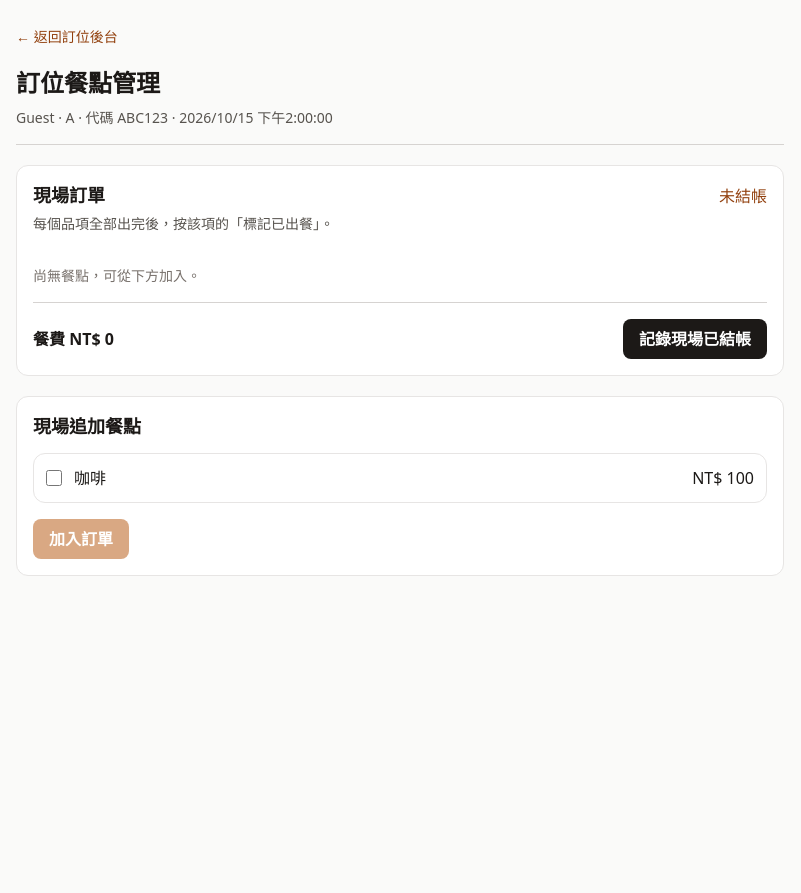
Scenario: standalone reservation orders — acknowledged add versus refresh (#463) › retains selection and reports an actual POST 409 failure without refetching
The image size is (801, 893).
Click the checkbox named "選擇咖啡" at [54, 478], box [46,470,62,486]
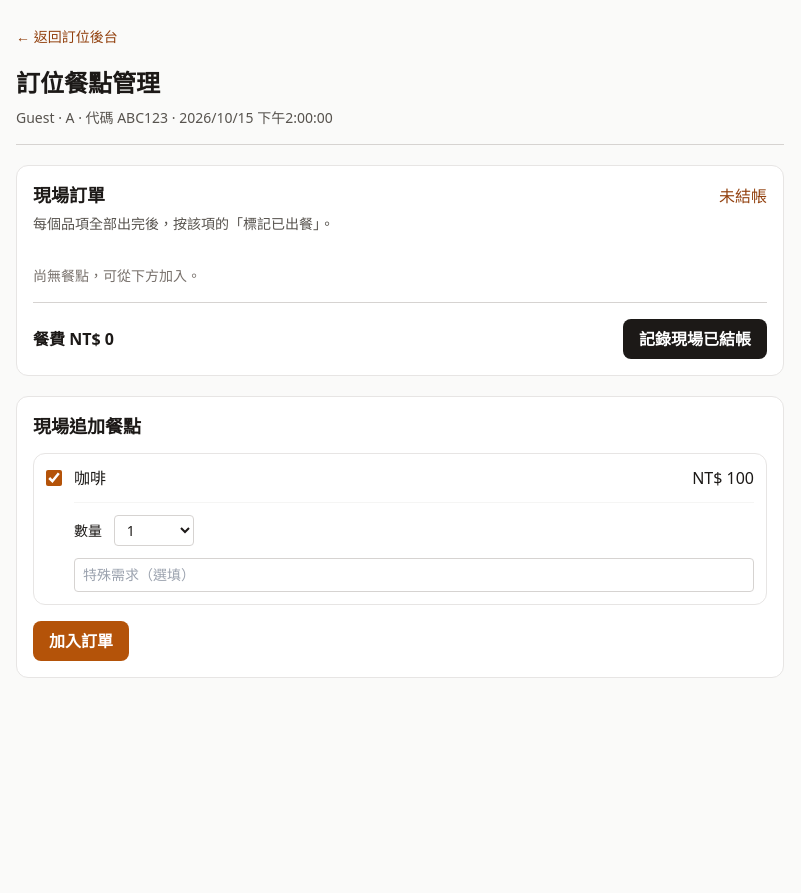
Click the button "加入訂單" at [81, 641], box [33,621,129,661]
(page scrolled)
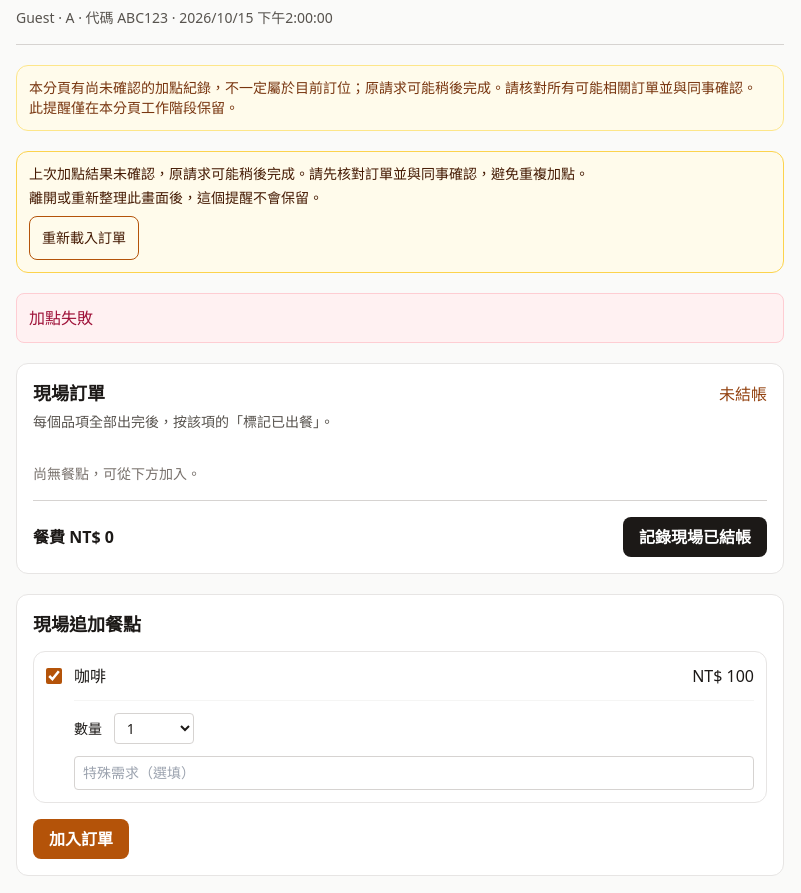
Expected: the checkbox named "選擇咖啡" is checked, [46,668,62,684]
Expected: the button "加入訂單" is enabled, [33,819,129,859]
Expected: the message "加點失敗" is shown, [16,293,784,343]
